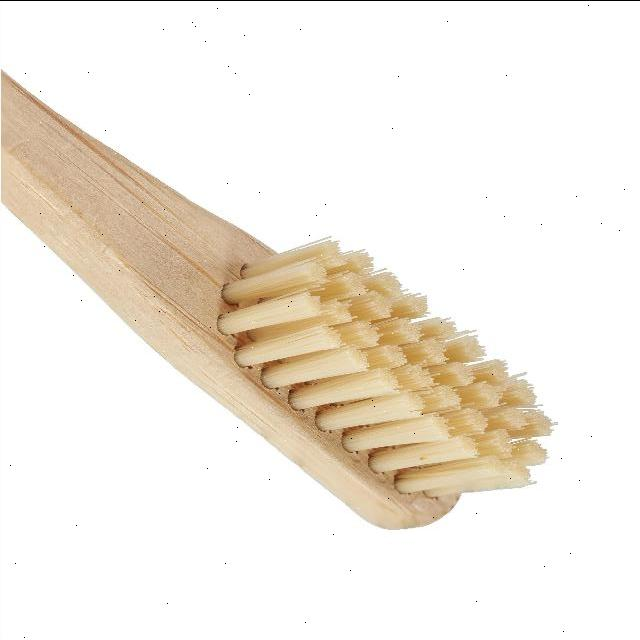toothbrush: (1, 1, 600, 614)
